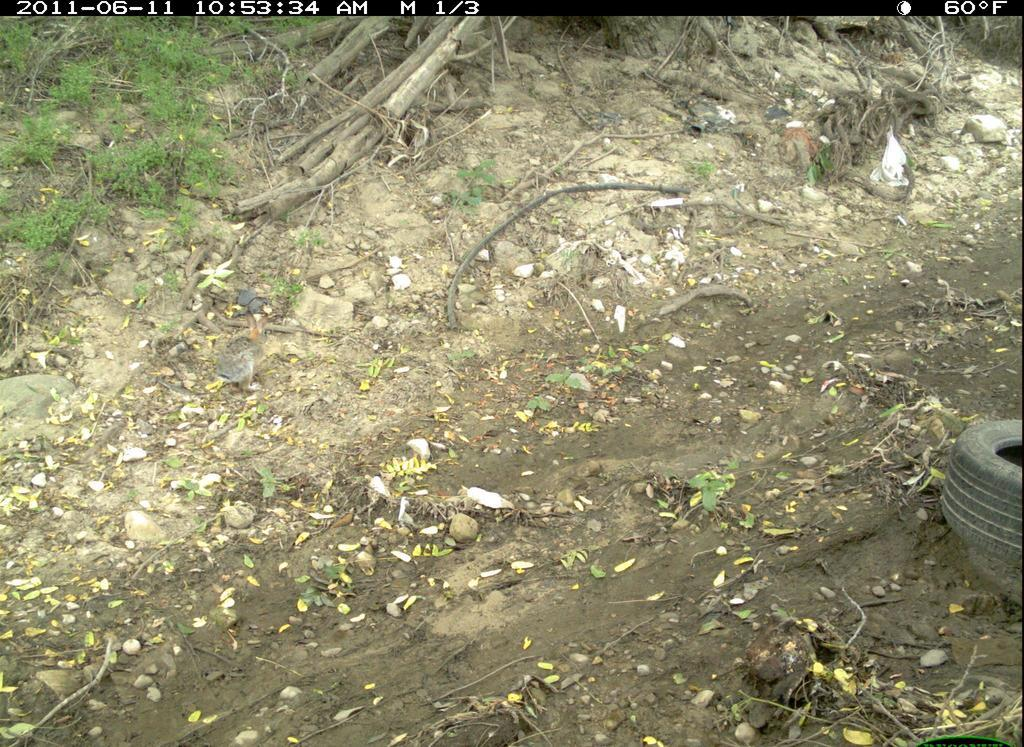squirrel: (213, 308, 277, 402)
